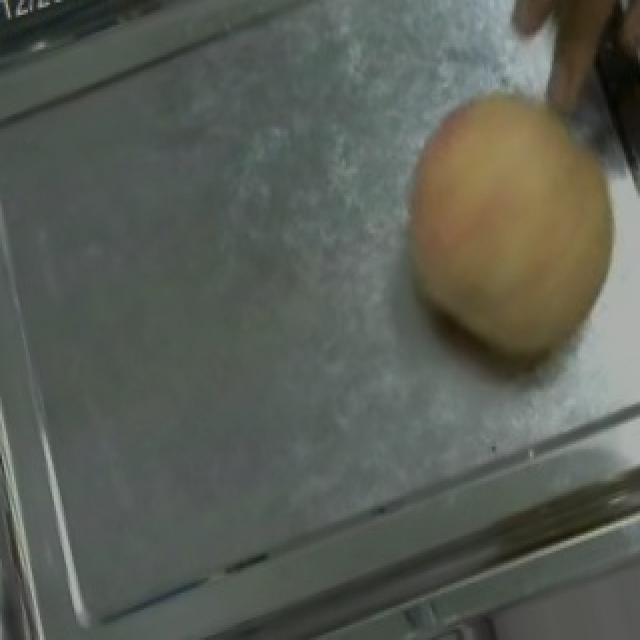Fruit: (360, 57, 640, 407)
